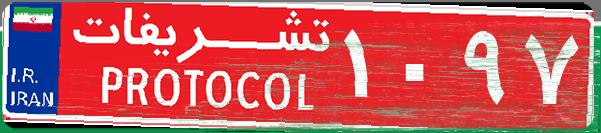0: (400, 20, 460, 115)
1: (340, 20, 400, 115)
7: (520, 20, 580, 115)
9: (460, 20, 520, 115)
تشریفات: (60, 8, 340, 125)
